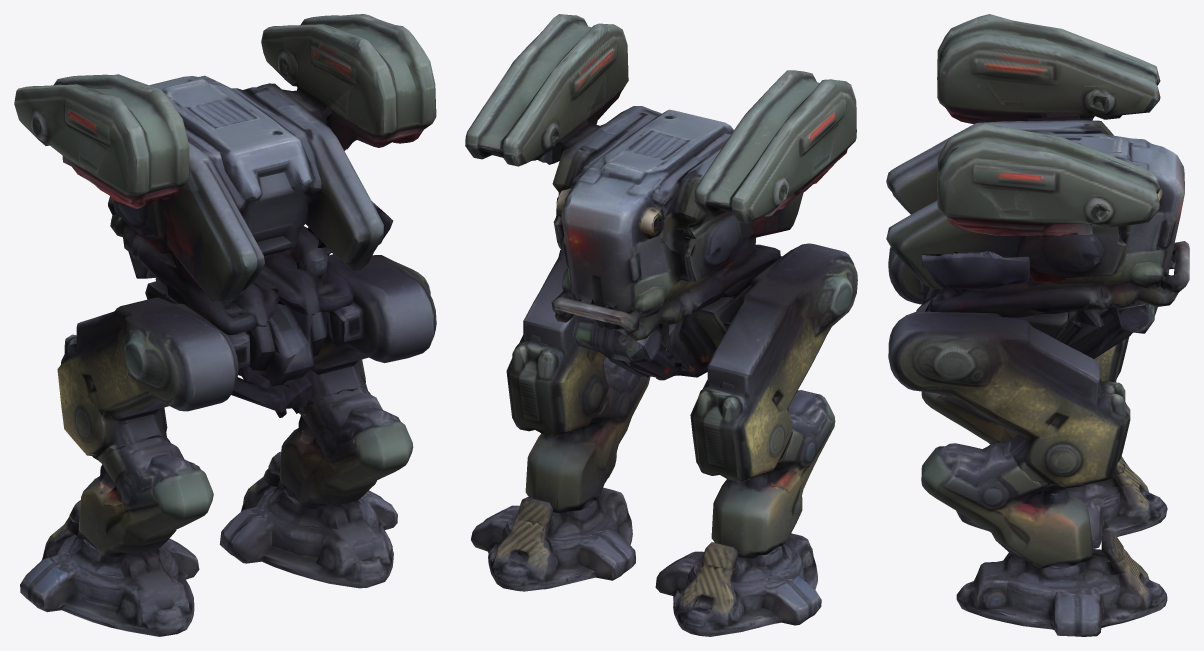
The model's file is mid_87e20_v2.glb.
3 renders of one model, left to right at view 1: azimuth 30°, elevation 25°; view 2: azimuth 150°, elevation 25°; view 3: azimuth 270°, elevation 25°, orthographic. The views are drawn at different scales.
Parts seen in each view (by area): view 1: hull, thigh_l, foot_r, foot_l, shin_l, shin_r, thigh_r, pelvis; view 2: hull, thigh_l, foot_l, foot_r, thigh_r, shin_l, shin_r, pelvis; view 3: hull, thigh_r, shin_r, foot_r, pelvis, foot_l, shin_l, thigh_l.
Part boxes in pixels (bbox=[...]): hull: bbox=[14, 14, 436, 334]; thigh_l: bbox=[57, 297, 238, 464]; foot_r: bbox=[219, 468, 397, 588]; foot_l: bbox=[20, 516, 199, 636]; shin_l: bbox=[69, 409, 286, 557]; shin_r: bbox=[268, 387, 413, 509]; thigh_r: bbox=[238, 254, 436, 414]; pelvis: bbox=[128, 252, 365, 412]; hull: bbox=[465, 14, 856, 340]; thigh_l: bbox=[656, 243, 857, 482]; foot_l: bbox=[655, 533, 821, 636]; foot_r: bbox=[471, 487, 635, 591]; thigh_r: bbox=[506, 250, 649, 437]; shin_l: bbox=[701, 390, 835, 569]; shin_r: bbox=[516, 357, 650, 525]; pelvis: bbox=[572, 256, 781, 379]; hull: bbox=[886, 14, 1189, 317]; thigh_r: bbox=[888, 311, 1130, 487]; shin_r: bbox=[921, 441, 1123, 568]; foot_r: bbox=[956, 548, 1167, 636]; pelvis: bbox=[916, 280, 1157, 358]; foot_l: bbox=[956, 460, 1167, 548]; shin_l: bbox=[921, 391, 1123, 474]; thigh_l: bbox=[888, 247, 1129, 382].
Size of the model in its own units: 3 by 4.32 by 2.46.
Materials: 1 (1 with a texture image).
